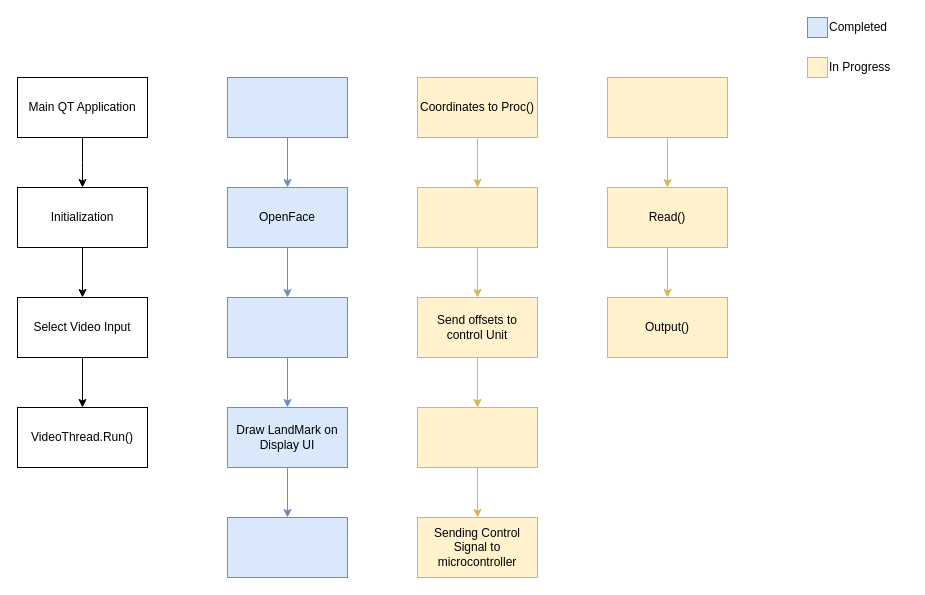
This 925x595 diagram has some shape labels left out. The centre of each missing label's shape, as x and y in pixels:
"Analyze offsets between camera center and facial center" belongs at (477,217).
"Facial_LandMark_init" belongs at (287,327).
"Linear function" belongs at (477,437).
"Output Coordinates" belongs at (287,547).
"UART" belongs at (667,107).
"VideoThread" belongs at (287,107).
